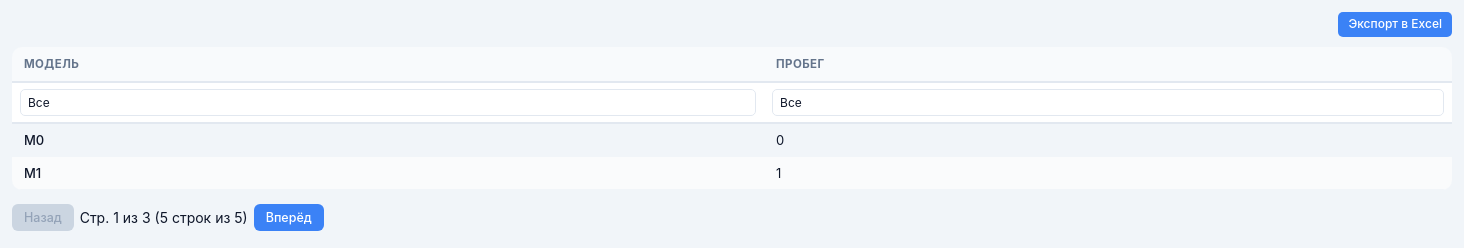
Test: FilterableTable: пагинация › переключает страницы кнопками «Вперёд» и «Назад»
Click the button "Вперёд". click: (289, 218)
box: [254,204,324,231]
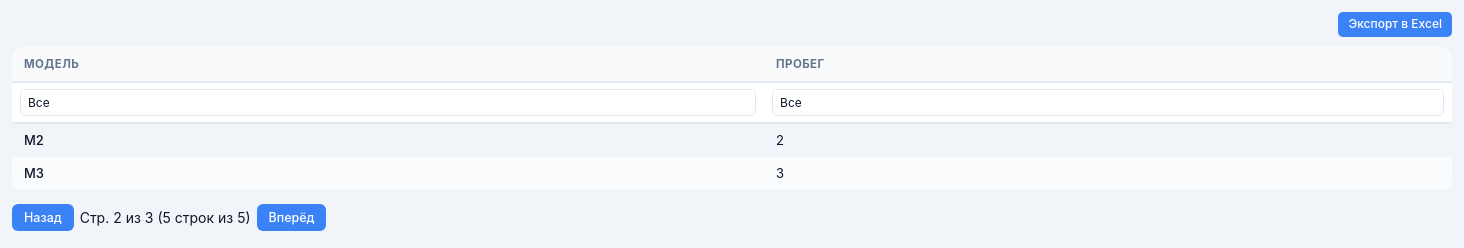
Expected: the text "Стр. 2 из 3 (5 строк из 5)" is shown, [80,209,251,226]
Click the button "Назад". click: (43, 218)
box: [12,204,74,231]
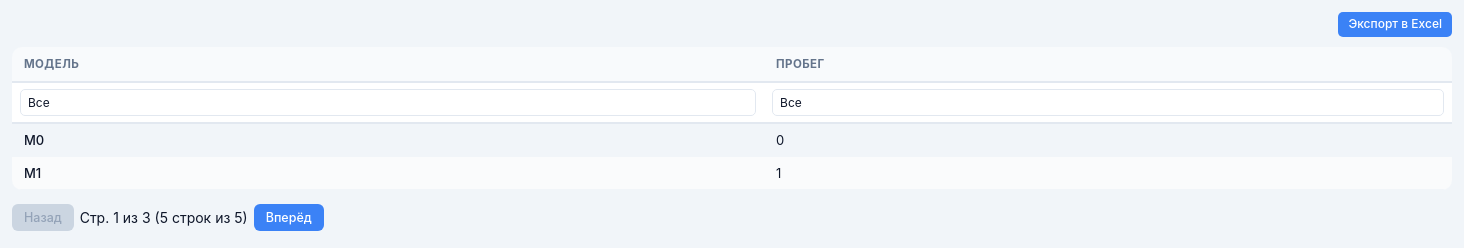
Expected: the text "Стр. 1 из 3 (5 строк из 5)" is shown, [80,209,248,226]
